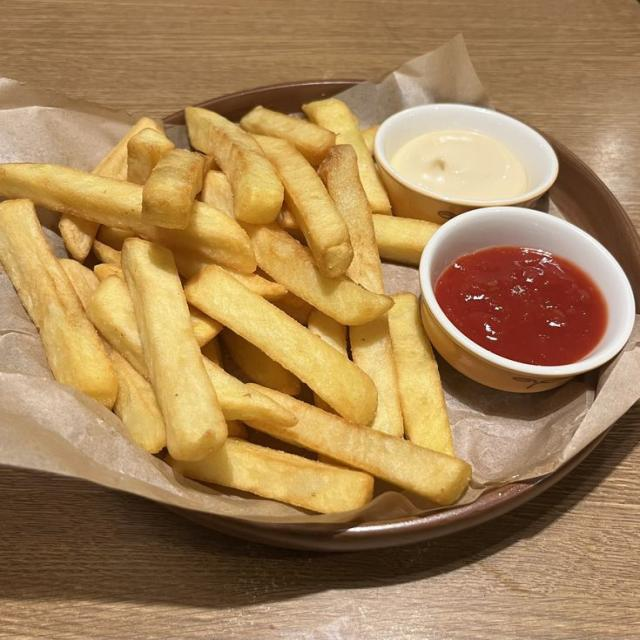potato fries: (185, 266, 377, 424), (0, 164, 255, 272), (249, 388, 471, 504), (0, 201, 117, 408), (122, 239, 227, 460), (166, 439, 372, 513), (246, 225, 391, 325), (256, 136, 352, 276), (185, 108, 283, 223), (389, 294, 454, 454), (303, 99, 390, 214), (319, 145, 384, 294), (203, 358, 296, 427), (108, 346, 166, 453), (203, 358, 295, 425), (88, 269, 146, 374), (109, 350, 166, 453), (241, 106, 336, 166), (221, 330, 300, 395), (142, 150, 203, 228), (94, 117, 163, 180), (373, 215, 439, 266), (127, 128, 175, 184), (60, 259, 99, 311), (308, 309, 348, 357), (200, 170, 234, 217), (96, 225, 135, 251), (93, 239, 121, 265), (94, 263, 123, 281), (362, 125, 379, 155)
